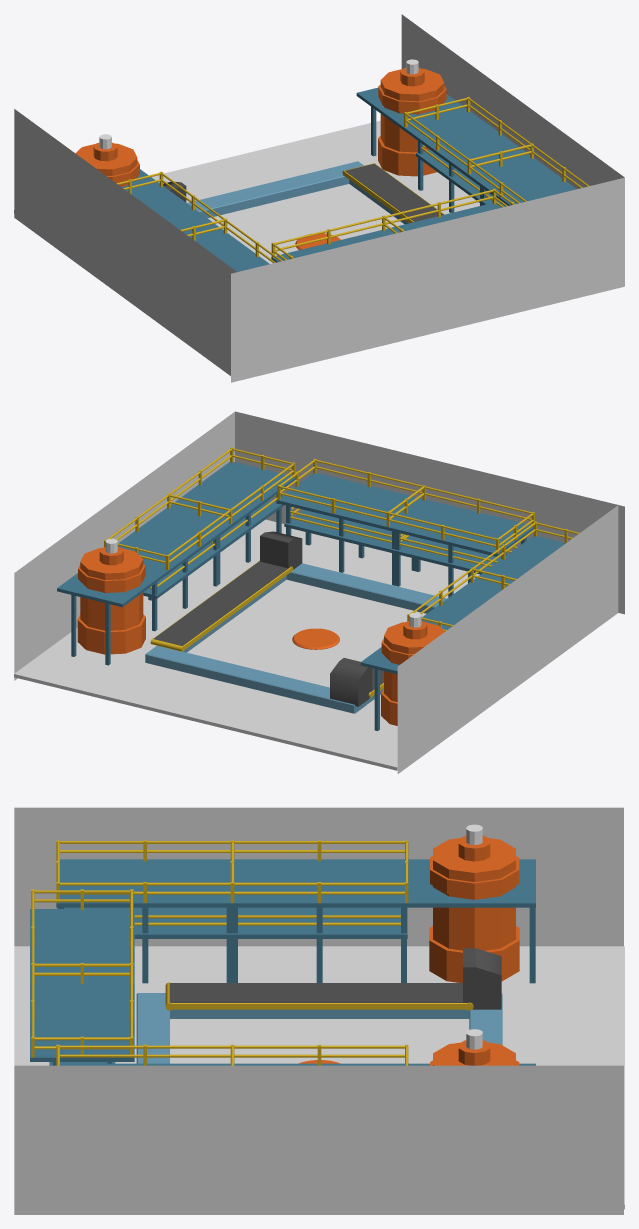
3 renders of one model, top to bottom at view 1: azimuth 30°, elevation 25°; view 2: azimuth 150°, elevation 25°; view 3: azimuth 270°, elevation 25°, orthographic. The views are drawn at different scales.
Parts seen in each view (by area): view 1: Wall_2, Wall_1, pCube1, Vat3, pCube14 (×2), Scafholding6, pCube27, pCylinder3, pCube4, pCube26, pCylinder6, pCube13 (+1 smaller); view 2: pCube1, Wall_1, Scafholding6, Wall_2, Vat3, pCube14 (×2), pCube27, pCube4, pCylinder3, pCube13 (×2), pCube29, pCylinder6 (+6 smaller); view 3: Wall_1, Vat3, pCube1, Scafholding6, pCube4, pCube27, pCube2, pCube29, pCube3, polySurface8 (×2), polySurface6 (×2), pCylinder3 (+1 smaller).
Boxes of the visible parts, <box> form: Wall_2: <box>231,177,624,382</box>; Wall_1: <box>14,14,624,375</box>; pCube1: <box>14,120,479,263</box>; Vat3: <box>75,134,282,271</box>; pCube14 (×2): <box>403,111,576,205</box>; Scafholding6: <box>271,188,514,262</box>; pCube27: <box>187,161,363,218</box>; pCylinder3: <box>380,69,444,152</box>; pCube4: <box>345,163,443,221</box>; pCube26: <box>356,87,474,130</box>; pCylinder6: <box>378,136,437,176</box>; pCube13: <box>416,149,492,202</box>; pCube1: <box>14,519,479,770</box>; Wall_1: <box>14,412,618,773</box>; Scafholding6: <box>276,458,534,597</box>; Wall_2: <box>235,411,624,614</box>; Vat3: <box>360,521,579,730</box>; pCube14 (×2): <box>118,462,295,570</box>; pCube27: <box>145,563,446,713</box>; pCube4: <box>153,561,288,645</box>; pCylinder3: <box>80,548,143,630</box>; pCube13 (×2): <box>143,499,283,598</box>; pCube29: <box>330,658,372,706</box>; pCylinder6: <box>77,614,145,654</box>; Wall_1: <box>14,807,623,1214</box>; Vat3: <box>56,824,535,983</box>; pCube1: <box>14,946,624,1209</box>; Scafholding6: <box>30,889,134,1065</box>; pCube4: <box>169,983,462,1002</box>; pCube27: <box>136,993,502,1063</box>; pCube2: <box>170,1009,469,1018</box>; pCube29: <box>463,948,501,1009</box>; pCube3: <box>171,1003,467,1009</box>; polySurface8 (×2): <box>60,1054,404,1057</box>; polySurface6 (×2): <box>60,1045,404,1048</box>; pCylinder3: <box>433,1042,515,1065</box>.
Bounding box in the file's own units: 30.99 × 8.52 × 30.46.
